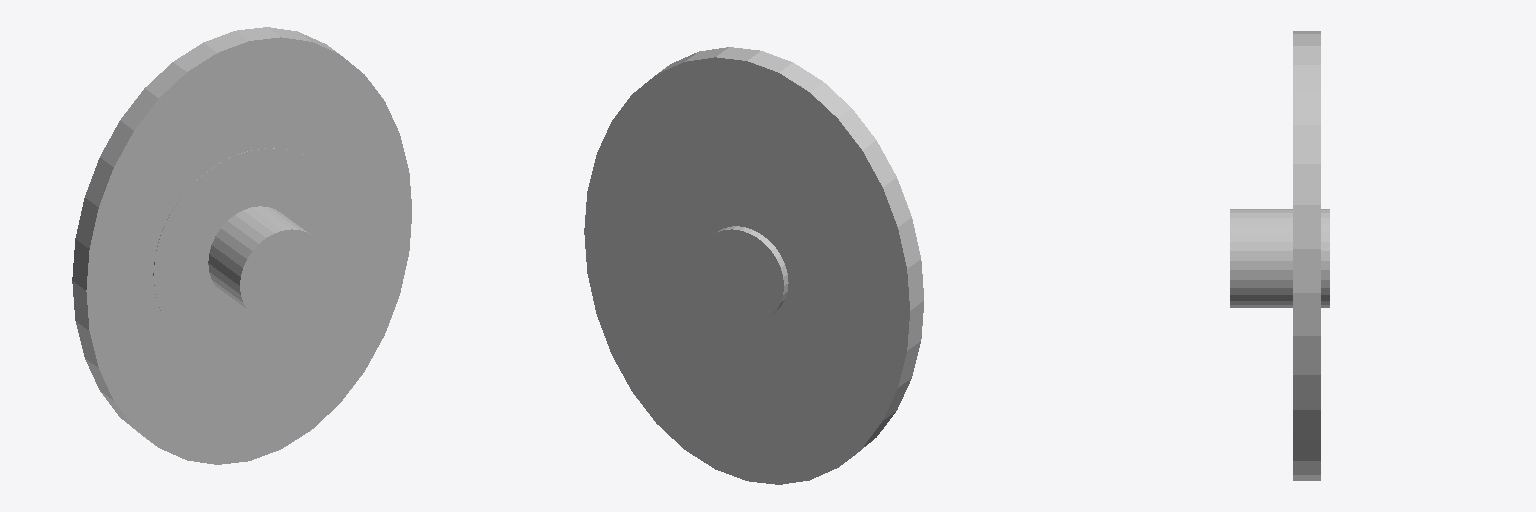
The model's file is mask.obj.
3 views of the same model, side by side, from view 1: azimuth 30°, elevation 25°; view 2: azimuth 150°, elevation 25°; view 3: azimuth 270°, elevation 25° (orthographic).
Parts seen in each view (by area): view 1: Cylinder.001, Cylinder; view 2: Cylinder.001, Cylinder; view 3: Cylinder.001, Cylinder.
Boxes of the visible parts, box(x1,y1,x2,y2) form: Cylinder.001: box(72, 27, 411, 464); Cylinder: box(153, 148, 345, 354); Cylinder.001: box(584, 47, 923, 484); Cylinder: box(698, 226, 788, 321); Cylinder.001: box(1293, 31, 1320, 480); Cylinder: box(1230, 209, 1329, 307).
Size of the model in its own units: 1.07 by 1.31 by 0.2857.